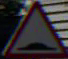Speed Breaker ahead: (7, 6, 61, 57)
